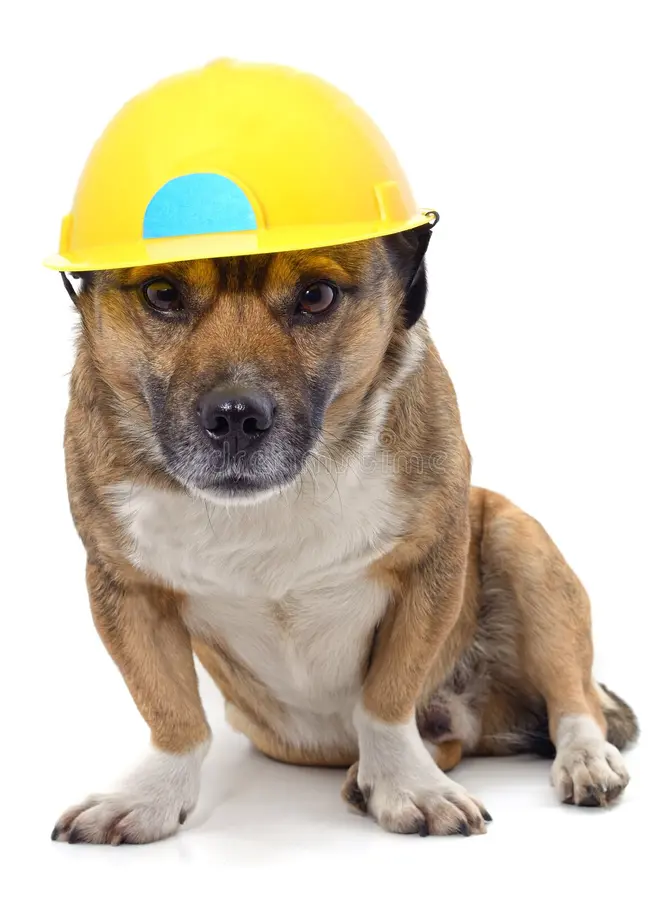Casco de seguridad: (44, 59, 436, 274)
